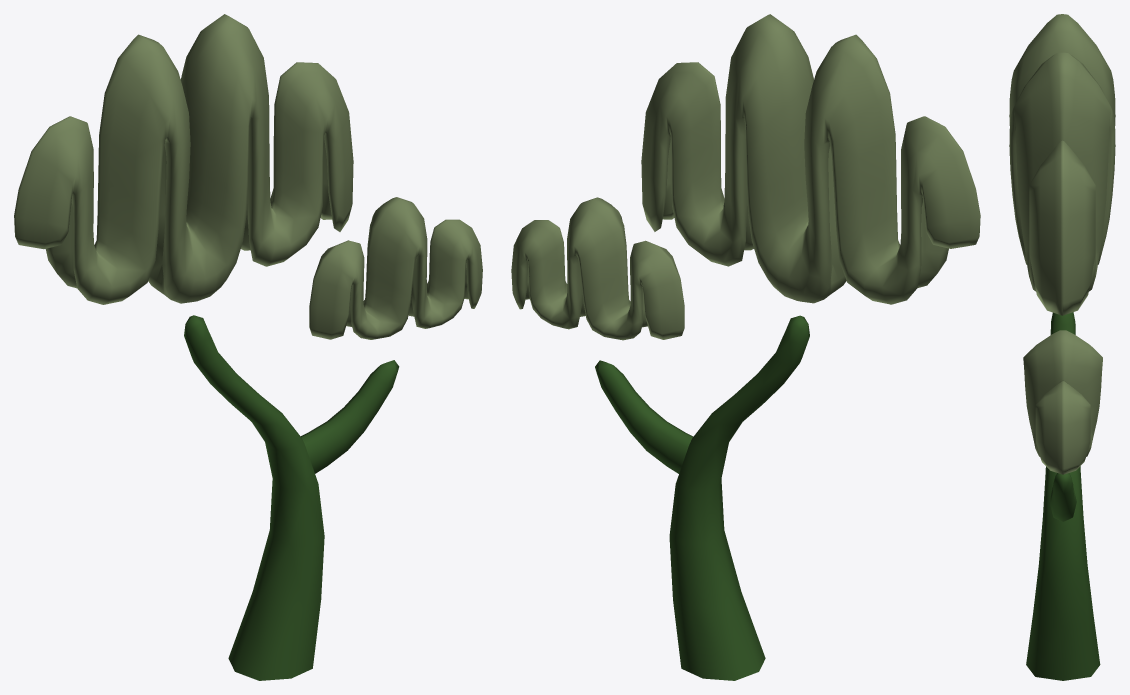
Rendered from quaternius-ultimate-space-tree-floating-3.glb.
3 renders of one model, left to right at view 1: azimuth 30°, elevation 25°; view 2: azimuth 150°, elevation 25°; view 3: azimuth 270°, elevation 25°, orthographic. The views are drawn at different scales.
Visible parts, largest first — view 1: Tree_Floating_3; view 2: Tree_Floating_3; view 3: Tree_Floating_3.
Part boxes in pixels (box(x1,y1,x2,y2)): Tree_Floating_3: box(14, 14, 482, 680); Tree_Floating_3: box(511, 14, 980, 680); Tree_Floating_3: box(1009, 14, 1115, 680).
Size of the model in its own units: 3.87 by 5.21 by 0.8429.
1 material, 1 textured.
